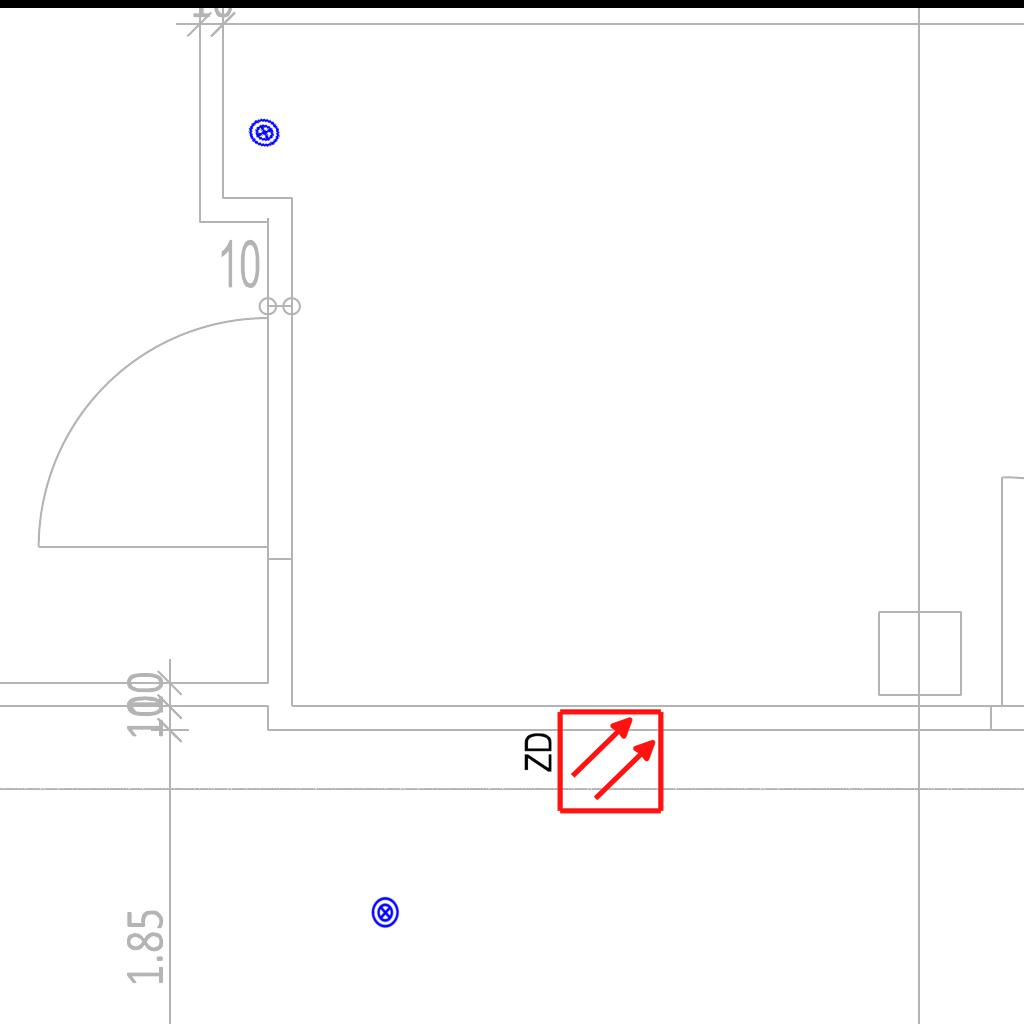Taster_beleuchtet: (243, 111, 286, 154), (369, 896, 402, 929)
ZD_Melder_in_Zwischendecke_mit_Revisionsoeffnung_mind_40_x_40_cm: (517, 706, 666, 820)
